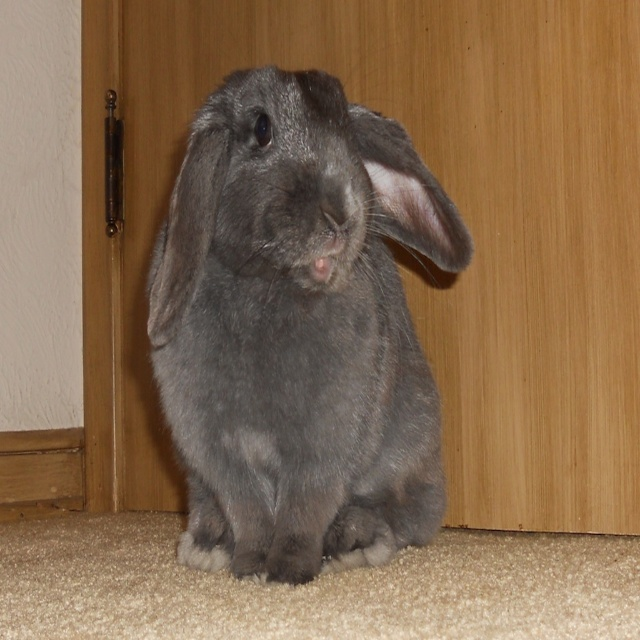Rabbit: (149, 63, 477, 589)
